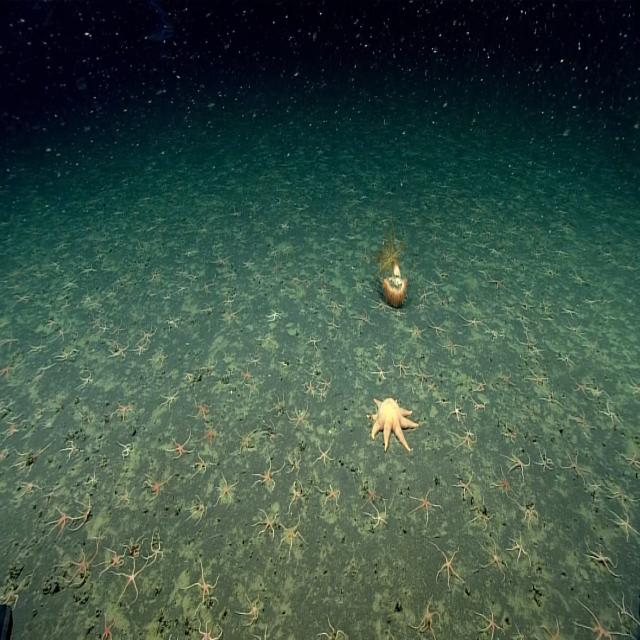brittle-stars: (574, 599, 614, 640), (119, 553, 148, 599), (64, 548, 97, 586), (192, 562, 218, 606), (435, 545, 460, 587), (586, 541, 617, 574), (410, 488, 438, 522), (609, 508, 637, 542), (479, 538, 504, 576), (415, 598, 440, 634), (475, 608, 502, 640), (279, 516, 301, 555), (561, 449, 586, 483), (253, 508, 278, 540), (257, 454, 280, 486), (102, 547, 128, 574), (450, 429, 477, 455), (607, 480, 632, 508), (505, 449, 529, 478), (238, 593, 260, 624), (48, 507, 72, 535), (365, 500, 389, 527), (186, 496, 206, 528), (145, 474, 169, 500), (168, 432, 192, 458), (2, 579, 25, 606), (200, 418, 222, 446), (16, 448, 42, 471), (470, 501, 493, 527), (217, 472, 235, 505), (611, 595, 633, 622), (493, 467, 512, 497), (286, 406, 310, 429), (318, 484, 341, 507), (17, 479, 42, 500), (619, 448, 640, 472), (198, 620, 223, 640), (509, 536, 529, 561), (601, 401, 620, 427), (240, 427, 257, 455), (147, 538, 163, 566), (316, 439, 332, 467), (454, 473, 472, 497), (288, 481, 303, 509), (519, 503, 538, 525), (192, 398, 210, 421), (0, 360, 20, 380), (192, 454, 210, 476), (392, 355, 410, 377), (527, 369, 547, 388), (441, 336, 462, 354), (534, 449, 551, 471), (408, 323, 426, 343), (102, 613, 115, 640), (117, 439, 135, 458), (161, 390, 178, 410), (448, 400, 465, 420), (414, 366, 432, 384), (3, 418, 21, 436), (0, 332, 17, 351), (116, 485, 132, 505), (62, 440, 78, 460), (28, 339, 48, 355), (571, 376, 587, 396), (272, 395, 286, 417), (116, 401, 132, 420), (153, 349, 167, 370), (486, 325, 503, 342), (371, 297, 388, 314), (110, 344, 128, 360), (426, 320, 444, 336), (353, 308, 368, 327), (78, 372, 92, 391), (365, 484, 379, 503), (288, 452, 301, 472), (140, 326, 156, 342), (131, 342, 149, 356), (498, 366, 512, 384), (373, 364, 388, 380), (86, 469, 98, 488), (57, 325, 69, 344), (472, 376, 487, 391), (560, 304, 576, 318), (488, 275, 504, 289), (326, 316, 342, 330), (463, 316, 480, 329), (577, 408, 587, 430), (304, 379, 316, 396), (558, 351, 572, 365), (328, 300, 342, 314), (113, 319, 126, 334), (56, 350, 72, 362), (426, 278, 442, 290), (464, 294, 476, 310), (590, 480, 604, 493), (568, 321, 581, 335), (418, 289, 432, 302), (248, 355, 262, 368), (268, 310, 282, 323), (242, 364, 252, 382), (558, 223, 574, 234), (64, 278, 78, 290), (503, 302, 515, 316), (542, 264, 554, 278), (83, 290, 94, 305), (426, 381, 438, 394), (318, 284, 331, 296), (224, 294, 235, 308), (307, 368, 318, 381), (555, 249, 569, 259), (317, 388, 327, 402), (178, 283, 188, 297), (320, 378, 331, 390), (150, 268, 160, 281), (522, 286, 532, 298), (202, 282, 212, 294), (176, 268, 186, 278), (91, 316, 100, 327), (350, 197, 360, 206), (347, 184, 355, 195), (326, 246, 334, 256)
